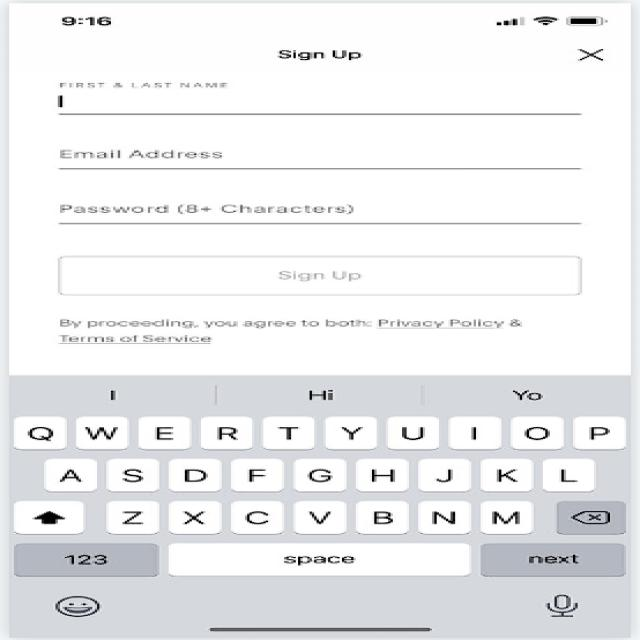button: (38, 242, 604, 305)
icon button: (575, 42, 620, 68)
input: (49, 121, 602, 176), (47, 70, 597, 124), (47, 178, 599, 231)
text: (44, 310, 569, 347)
